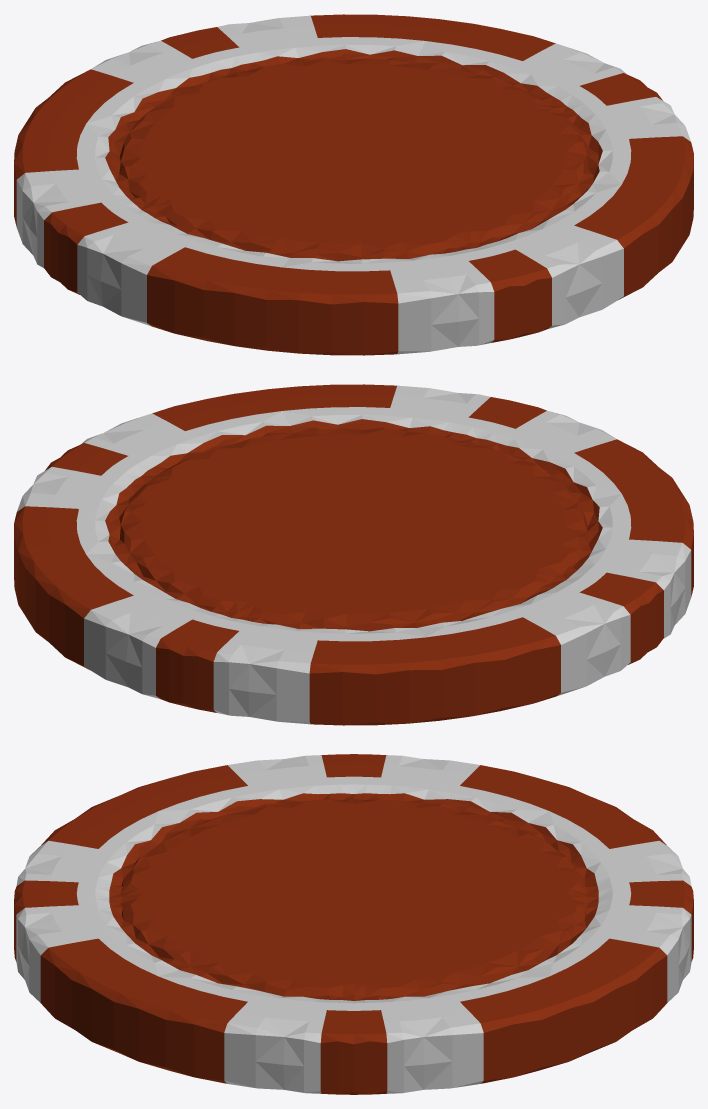
Rendered from PokerChip.obj.
3 renders of one model, top to bottom at view 1: azimuth 30°, elevation 25°; view 2: azimuth 150°, elevation 25°; view 3: azimuth 270°, elevation 25°, orthographic.
Parts seen in each view (by area): view 1: mesh_0, mesh_0_1; view 2: mesh_0, mesh_0_1; view 3: mesh_0, mesh_0_1.
Boxes of the visible parts, left/top/right/bottom form: mesh_0: left=14, top=14, right=693, bottom=355; mesh_0_1: left=16, top=15, right=690, bottom=354; mesh_0: left=14, top=384, right=693, bottom=725; mesh_0_1: left=17, top=385, right=691, bottom=724; mesh_0: left=14, top=754, right=693, bottom=1094; mesh_0_1: left=16, top=755, right=691, bottom=1093.
Bounding box in the file's own units: 2 × 0.1988 × 2.
